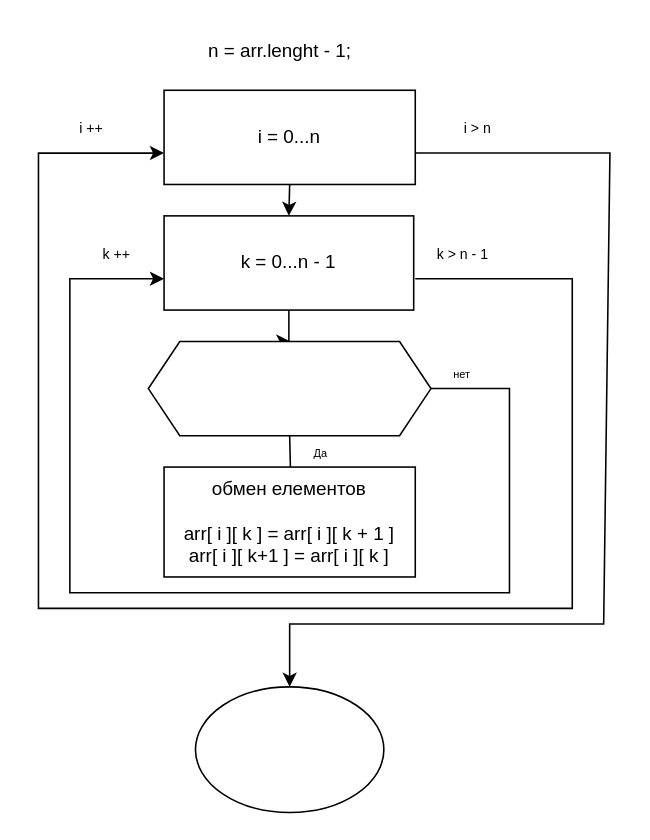
This 650x840 diagram has some shape labels left out. The centre of each missing label's shape, as x and y in pixels:
arr[ i ][ k ] > arr[ i ][ k + 1 ]: (289,388)
Конец: (289,748)
